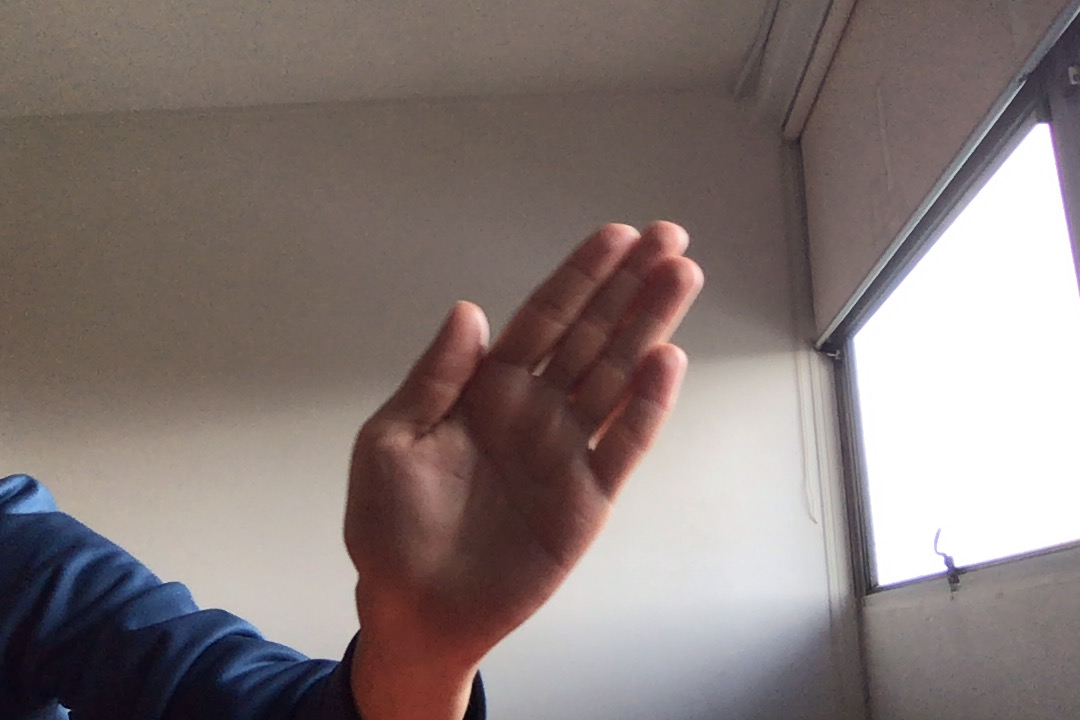palmhand: (336, 216, 709, 653)
